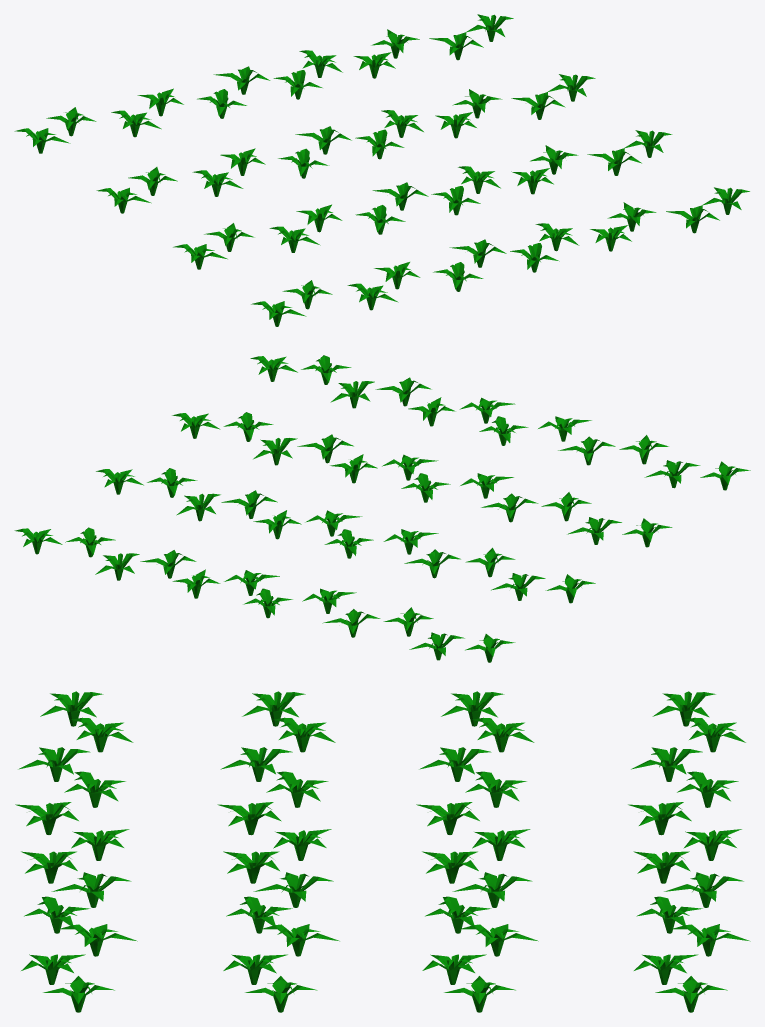
Rendered from wheat-stage1.glb.
The picture shows the model from 3 angles, top to bottom: view 1: azimuth 30°, elevation 25°; view 2: azimuth 150°, elevation 25°; view 3: azimuth 270°, elevation 25°; orthographic projection. The views are drawn at different scales.
Parts seen in each view (by area): view 1: Wheat_F1.001; view 2: Wheat_F1.001; view 3: Wheat_F1.001.
Boxes of the visible parts, box(x1,y1,x2,y2) form: Wheat_F1.001: box(14, 14, 749, 326); Wheat_F1.001: box(14, 355, 750, 662); Wheat_F1.001: box(15, 691, 750, 1012).
Bounding box in the file's own units: 2.2 × 0.0954 × 2.2.
Materials: 1 (1 with a texture image).
